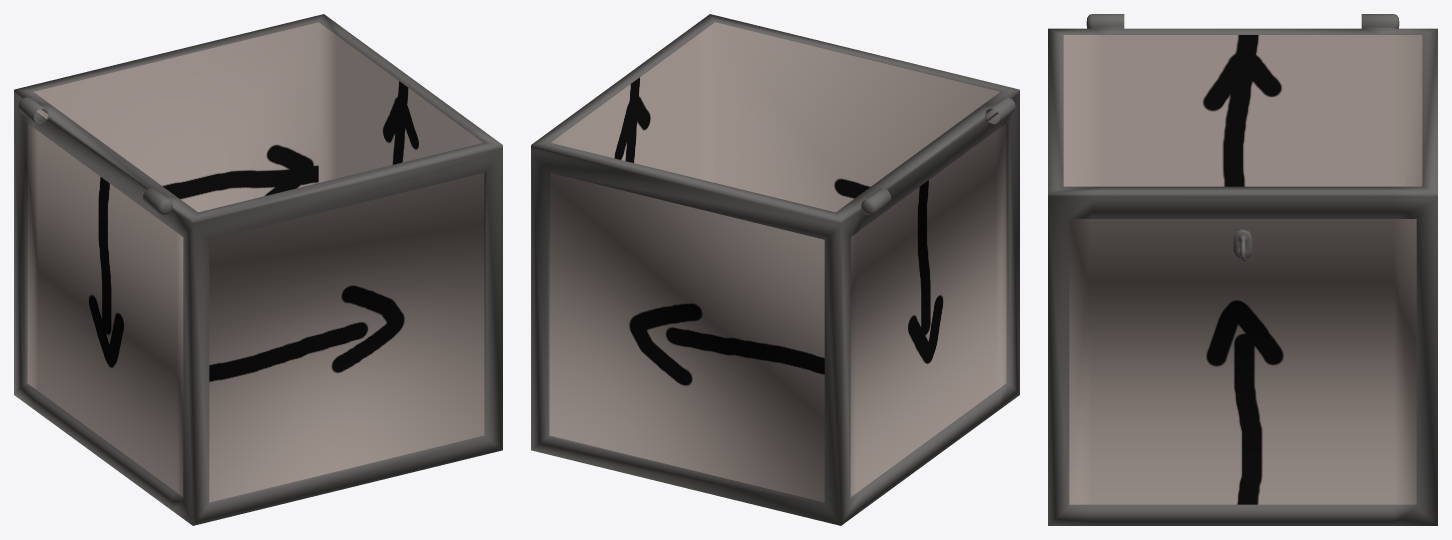
File: SM_DeliveryBox.fbx
The picture shows the model from 3 angles, left to right: view 1: azimuth 30°, elevation 25°; view 2: azimuth 150°, elevation 25°; view 3: azimuth 270°, elevation 25°; orthographic projection. The views are drawn at different scales.
Visible parts, largest first — view 1: DeliveryBox; view 2: DeliveryBox; view 3: DeliveryBox.
Boxes of the visible parts, x1=… form: DeliveryBox: x1=14, y1=14, x2=502, y2=525; DeliveryBox: x1=531, y1=14, x2=1019, y2=525; DeliveryBox: x1=1048, y1=14, x2=1437, y2=525.
Size of the model in its own units: 94.16 by 82.28 by 85.
